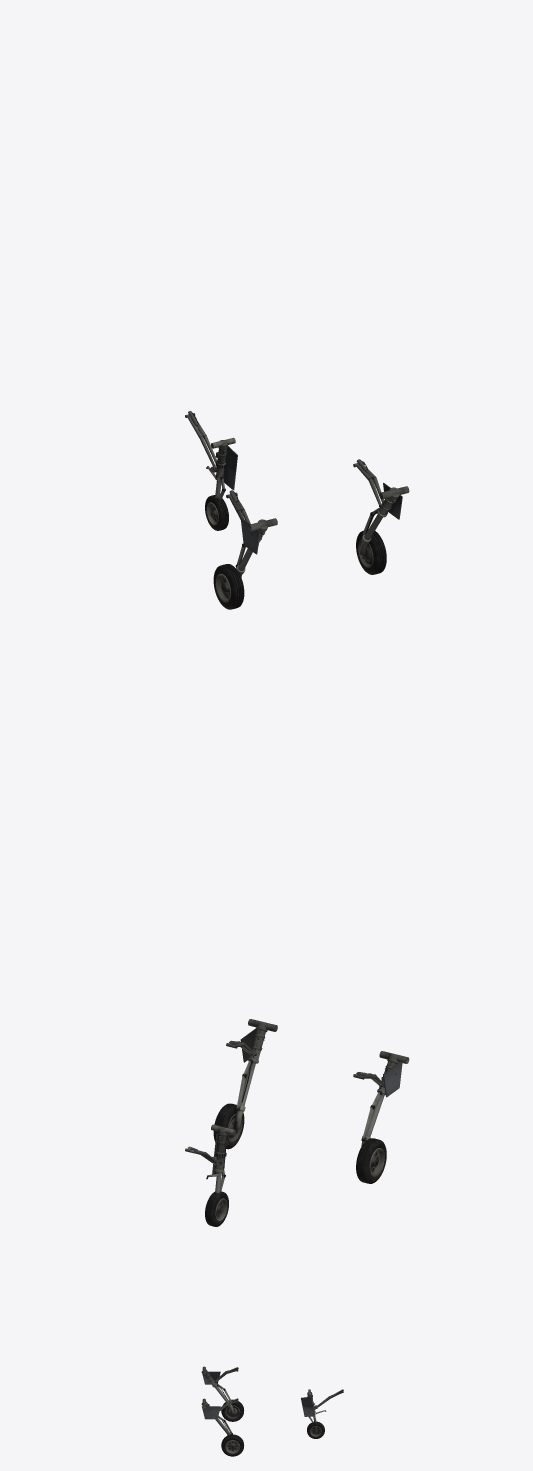
The model's file is typhoon_gear.glb.
3 views of the same model, one above another, from view 1: azimuth 30°, elevation 25°; view 2: azimuth 150°, elevation 25°; view 3: azimuth 270°, elevation 25° (orthographic). The views are drawn at different scales.
Visible parts, largest first — view 1: gear_n, gear_m_r, gear_w_l, gear_m_l, gear_w_r; view 2: gear_n, gear_m_r, gear_m_l, gear_w_l, gear_w_r; view 3: gear_n, gear_m_l, gear_w_r, gear_m_r, gear_w_l.
Boxes of the visible parts, x1,y1,x2,y2 form: gear_n: [205, 437, 237, 530]; gear_m_r: [360, 483, 409, 555]; gear_w_l: [213, 564, 244, 609]; gear_m_l: [235, 517, 277, 577]; gear_w_r: [356, 530, 386, 574]; gear_n: [205, 1124, 235, 1226]; gear_m_r: [234, 1019, 277, 1129]; gear_m_l: [361, 1051, 409, 1146]; gear_w_l: [356, 1138, 386, 1183]; gear_w_r: [213, 1103, 244, 1149]; gear_n: [301, 1389, 326, 1438]; gear_m_l: [201, 1366, 234, 1413]; gear_w_r: [221, 1434, 244, 1456]; gear_m_r: [201, 1398, 232, 1435]; gear_w_l: [221, 1399, 244, 1421].
Bounding box in the file's own units: 2.88 × 6.39 × 15.97.
Materials: 1 (1 with a texture image).
